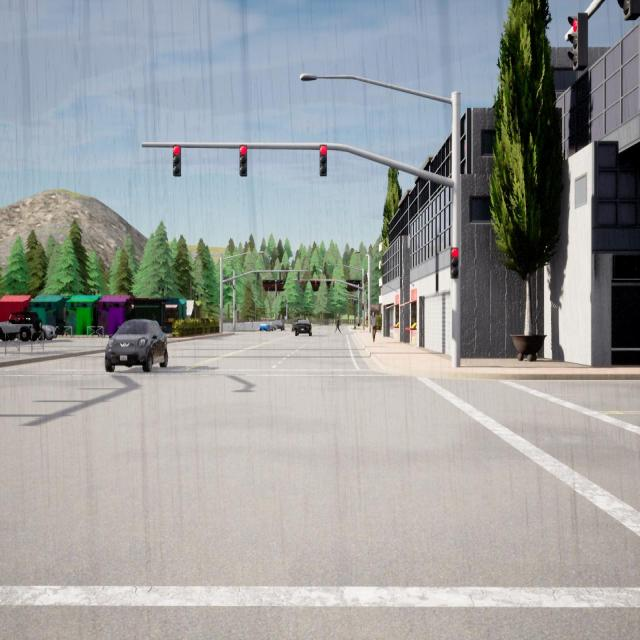Pedestrian: (370, 311, 377, 342), (335, 316, 341, 334)
Vehicle: (105, 318, 169, 372), (0, 312, 42, 342), (295, 320, 312, 336), (42, 324, 57, 340), (291, 317, 303, 332), (273, 319, 284, 331), (259, 321, 270, 331), (268, 321, 277, 331)
traffic_light: (567, 12, 588, 72), (617, 0, 640, 21), (172, 145, 182, 177), (450, 247, 459, 279), (240, 145, 248, 177), (320, 144, 327, 177), (297, 271, 300, 280), (333, 280, 335, 288), (280, 272, 282, 280), (257, 272, 259, 280), (300, 280, 302, 287), (315, 280, 317, 287), (363, 276, 365, 283), (362, 304, 364, 310), (235, 304, 237, 310), (365, 274, 366, 282), (366, 274, 367, 282)
